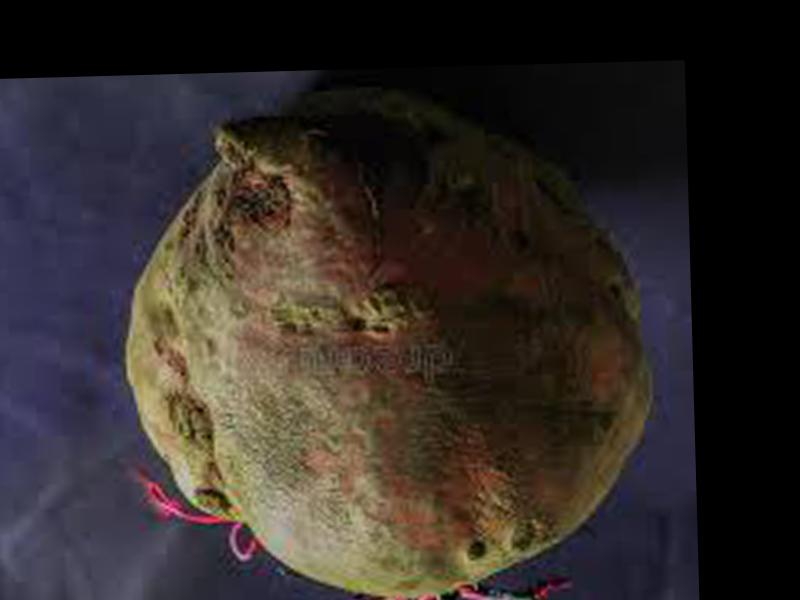Beet: (119, 85, 655, 600)
